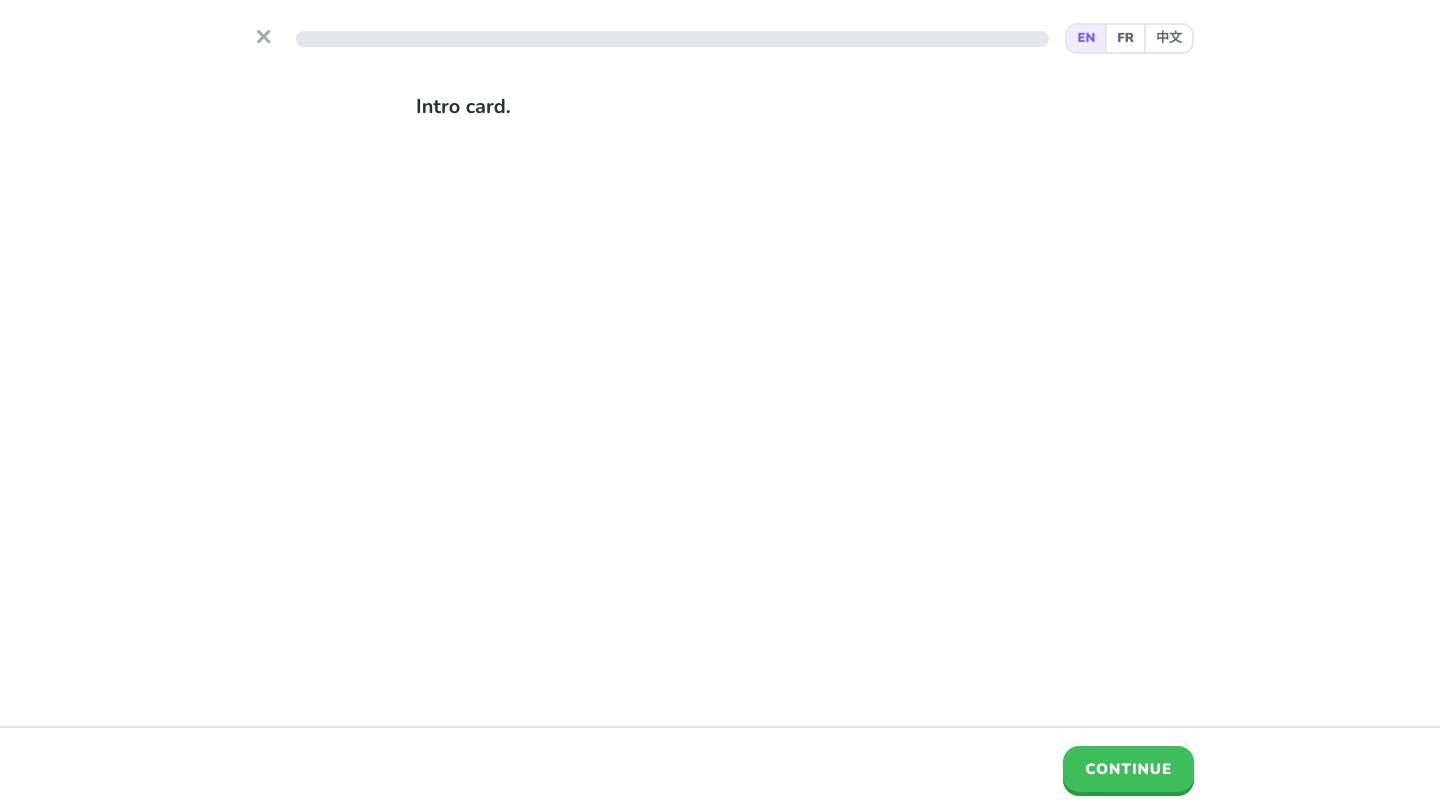
Test: going back inside a lesson › Back returns to the previous card, Continue comes forward again
This screenshot has width=1440, height=810.
Click the button "Continue".
click(1129, 769)  # box [1063,746,1194,792]
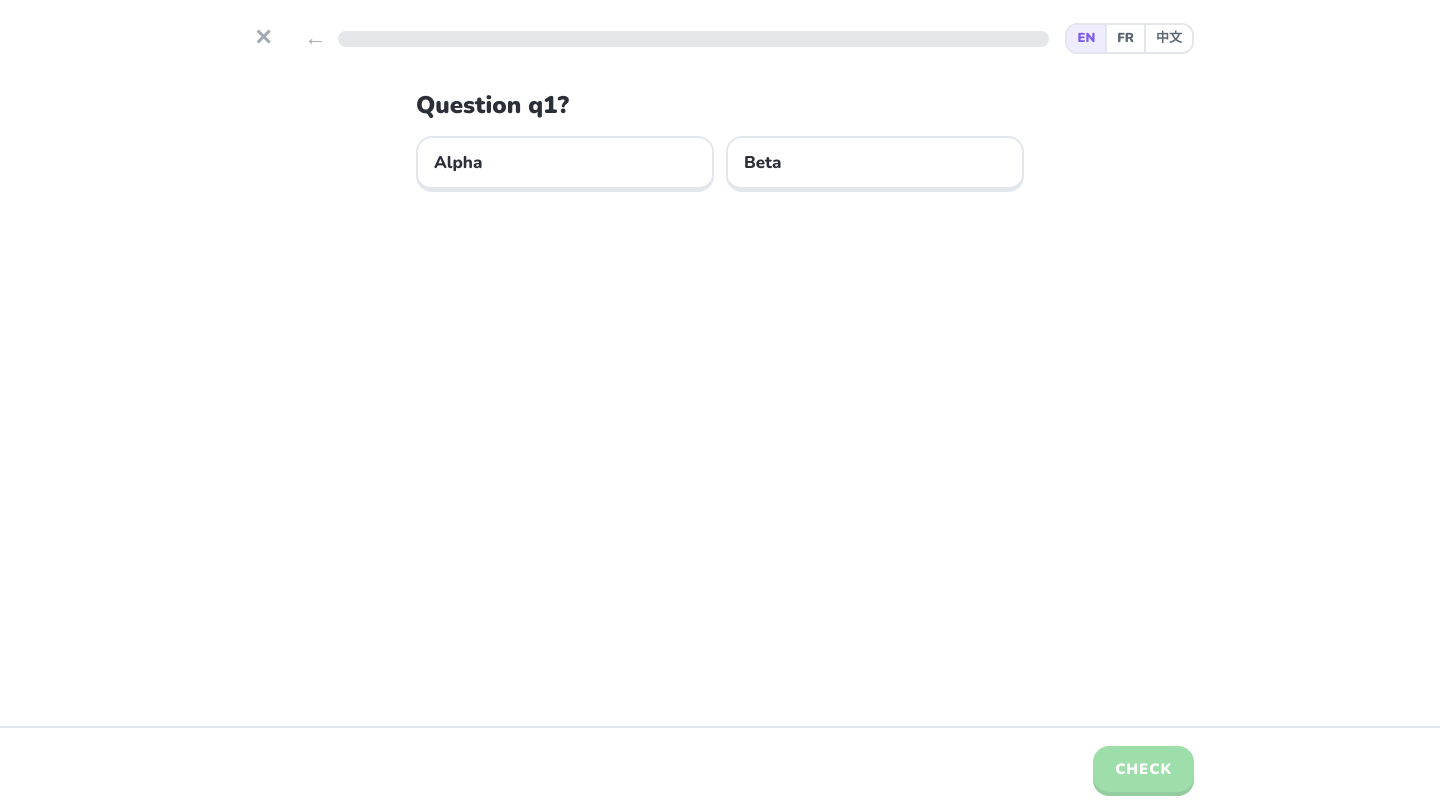
Click the button named "Go back".
click(315, 38)  # box [296,18,334,59]
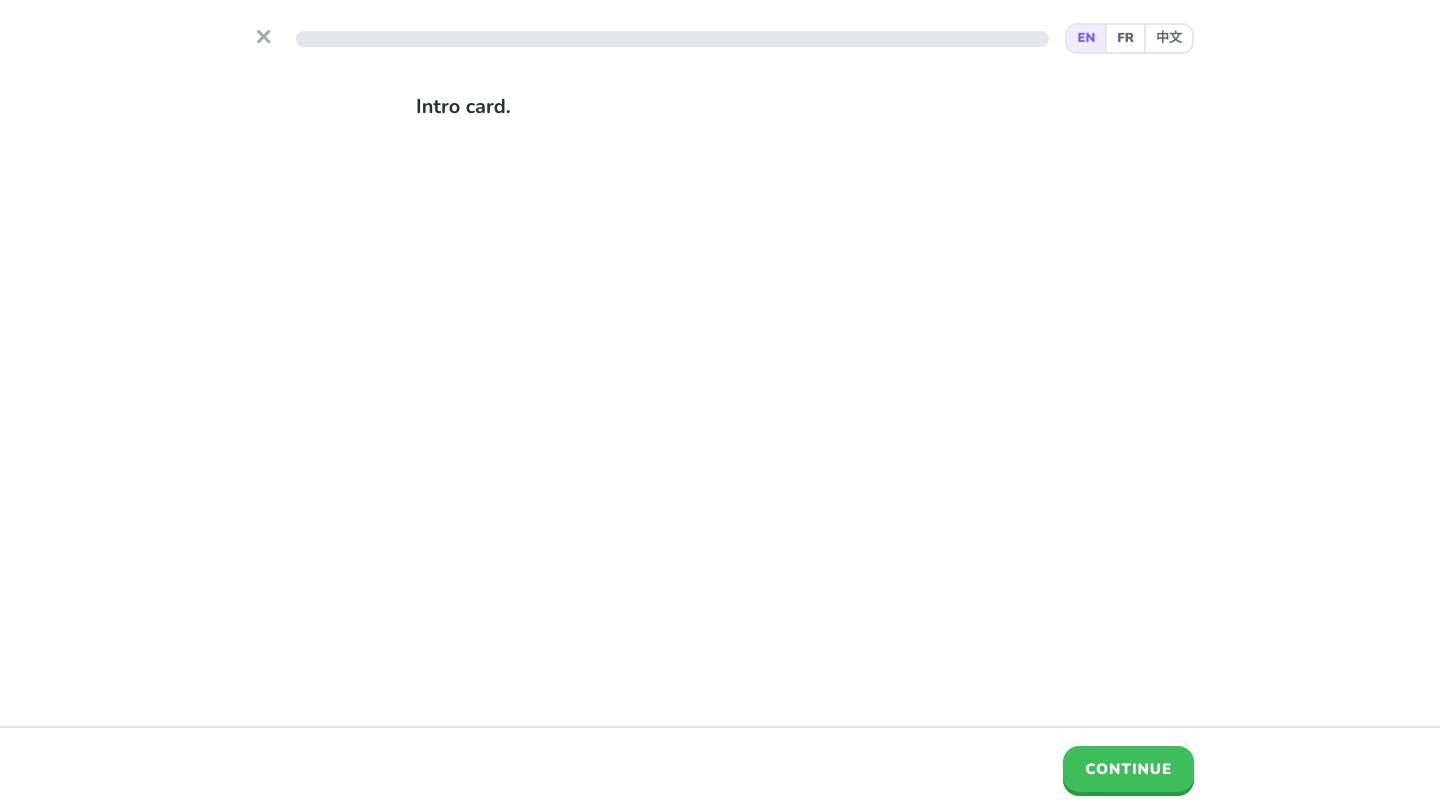
Result: the text "Intro card." is shown at [416,93,511,120]
Click the button "Continue".
click(1129, 769)  # box [1063,746,1194,792]
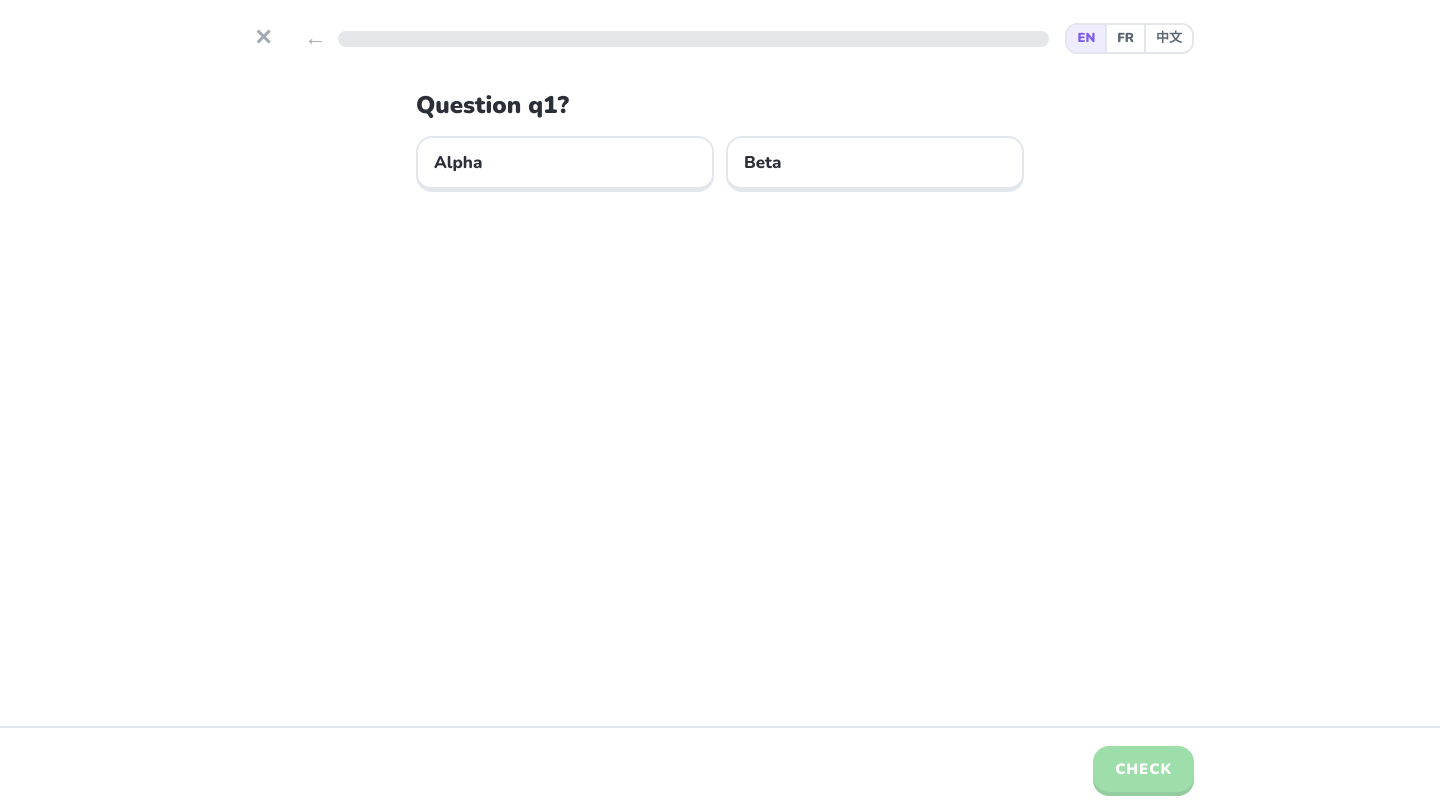
Result: the heading "Question q1?" is shown at [416,89,569,121]
